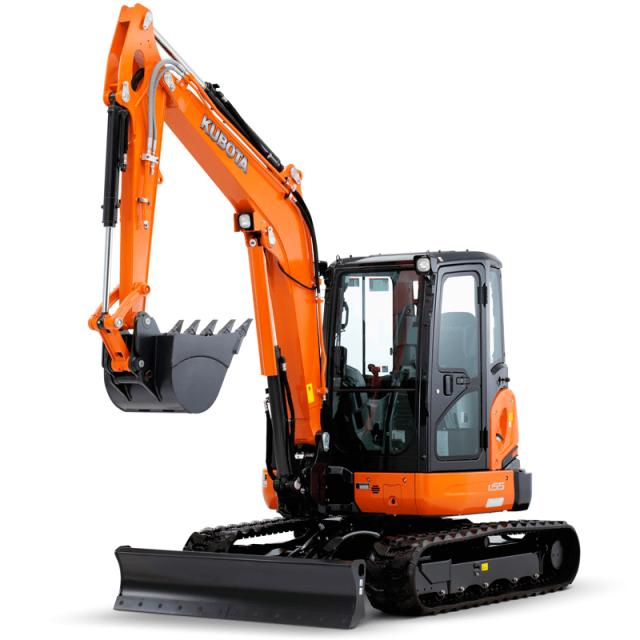excavator: (89, 1, 580, 630)
